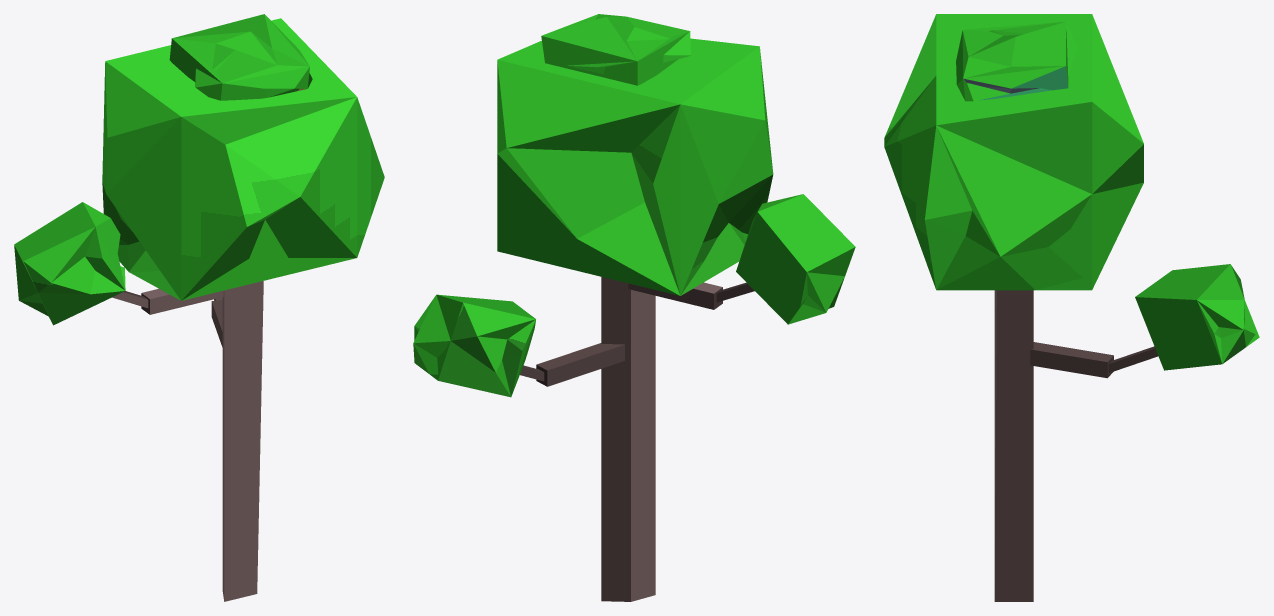
File: tree-test01.gltf
The picture shows the model from 3 angles, left to right: view 1: azimuth 30°, elevation 25°; view 2: azimuth 150°, elevation 25°; view 3: azimuth 270°, elevation 25°; orthographic projection. The views are drawn at different scales.
Visible parts, largest first — view 1: cube (×5); view 2: cube (×7); view 3: cube (×6).
Part boxes in pixels (<box>): cube (×5): <box>14,14,384,601</box>; cube (×7): <box>413,14,855,601</box>; cube (×6): <box>884,14,1259,601</box>.
Bounding box in the file's own units: 3.92 × 6.02 × 3.61.
1 material, 1 textured.
